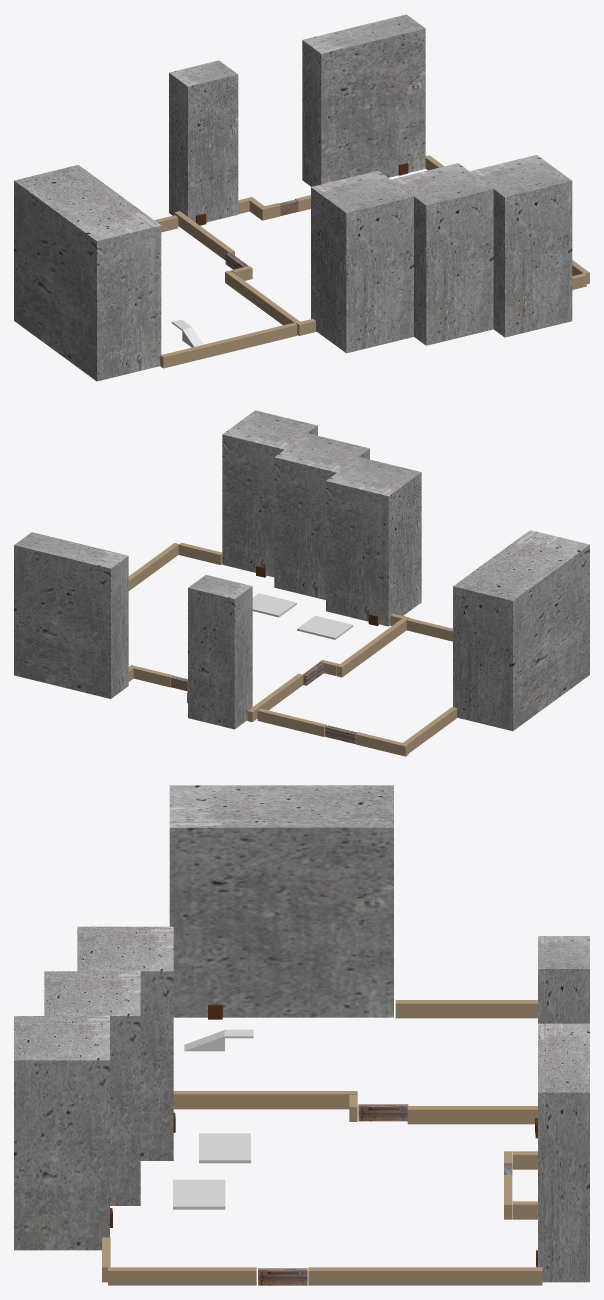
File: flora_square.glb
The picture shows the model from 3 angles, top to bottom: view 1: azimuth 30°, elevation 25°; view 2: azimuth 150°, elevation 25°; view 3: azimuth 270°, elevation 25°; orthographic projection. The views are drawn at different scales.
Visible parts, largest first — view 1: Building 2, Building 1, Building 4, Building 4.001, Building 4.002, Building 3, Building 3.013, Building 3.006, Building 3.011; view 2: Building 2, Building 1, Building 4, Building 3, Building 4.002, Building 4.001, Building 3.006, Building 3.014, Building 3.011, Cube, Building 3.009, Building 3.015 (+5 smaller); view 3: Building 2, Building 4.002, Building 1, Building 4, Building 4.001, Building 3, Building 3.007, Building 3.006, Building 3.009, Building 3.015, Building 3.011, Cube.001 (+3 smaller).
Boxes of the visible parts, bbox=[...] form: Building 2: bbox=[14, 165, 161, 381]; Building 1: bbox=[302, 14, 425, 186]; Building 4: bbox=[311, 170, 413, 353]; Building 4.001: bbox=[391, 163, 493, 345]; Building 4.002: bbox=[470, 155, 572, 337]; Building 3: bbox=[169, 60, 238, 222]; Building 3.013: bbox=[160, 322, 297, 368]; Building 3.006: bbox=[225, 270, 299, 325]; Building 3.011: bbox=[174, 211, 234, 260]; Building 2: bbox=[453, 530, 589, 731]; Building 1: bbox=[14, 532, 128, 698]; Building 4: bbox=[326, 457, 421, 626]; Building 3: bbox=[188, 575, 252, 729]; Building 4.002: bbox=[222, 410, 317, 577]; Building 4.001: bbox=[274, 433, 369, 599]; Building 3.006: bbox=[337, 618, 406, 677]; Building 3.014: bbox=[257, 708, 326, 736]; Building 3.011: bbox=[247, 673, 303, 722]; Cube: bbox=[297, 615, 353, 639]; Building 3.009: bbox=[128, 543, 178, 590]; Building 3.015: bbox=[401, 707, 456, 753]; Building 2: bbox=[169, 785, 393, 1017]; Building 4.002: bbox=[14, 1016, 109, 1250]; Building 1: bbox=[538, 1023, 589, 1282]; Building 4: bbox=[77, 926, 173, 1160]; Building 4.001: bbox=[44, 971, 140, 1205]; Building 3: bbox=[538, 936, 589, 1023]; Building 3.007: bbox=[308, 1267, 542, 1285]; Building 3.006: bbox=[173, 1091, 357, 1109]; Building 3.009: bbox=[108, 1267, 256, 1285]; Building 3.015: bbox=[395, 1000, 537, 1018]; Building 3.011: bbox=[407, 1106, 537, 1124]; Cube.001: bbox=[173, 1179, 225, 1209].
Size of what is drawn, in the model's own units: 96.39 by 27.85 by 75.56.
23 materials, 3 textured.
